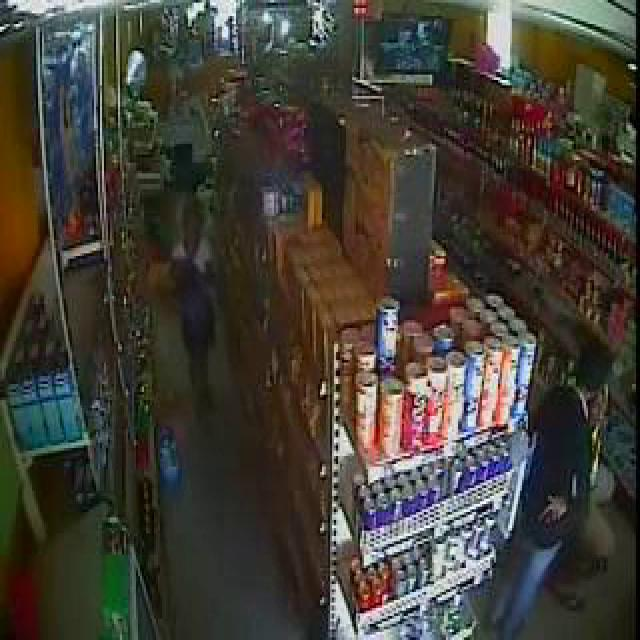shoplifting: (138, 16, 285, 510)
